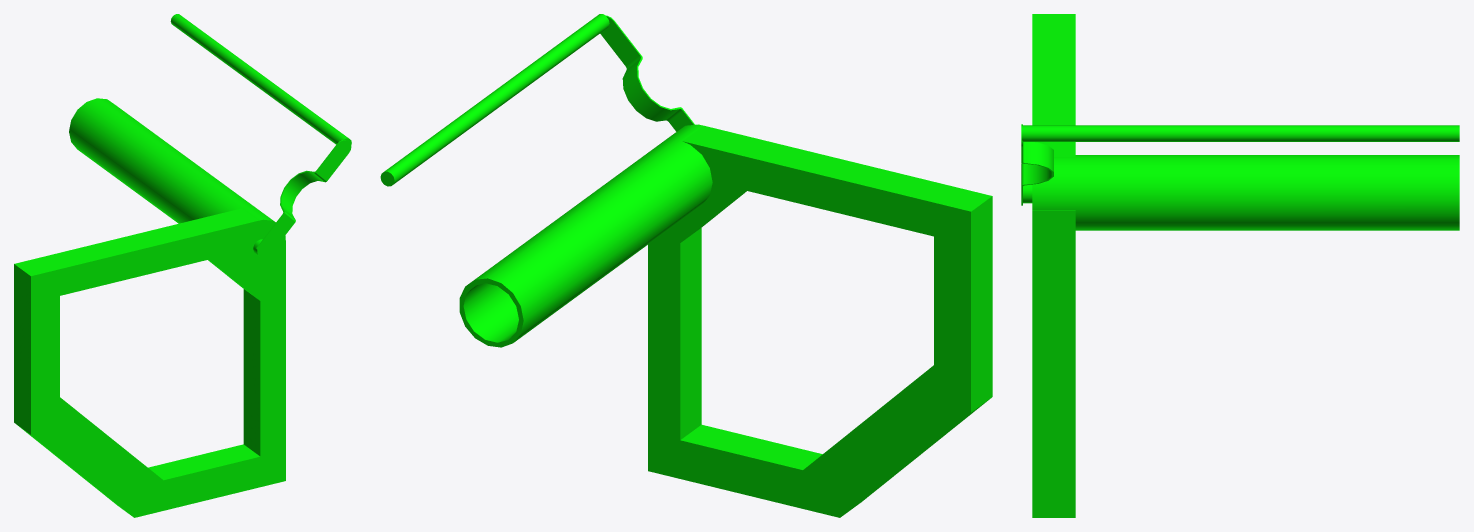
File: transformador2_1.obj
3 views of the same model, side by side, from view 1: azimuth 30°, elevation 25°; view 2: azimuth 150°, elevation 25°; view 3: azimuth 270°, elevation 25° (orthographic). The views are drawn at different scales.
Size of the model in its own units: 276 by 276 by 257.
